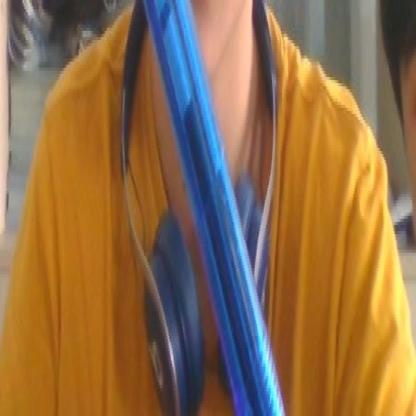not trash: (142, 0, 284, 416)
